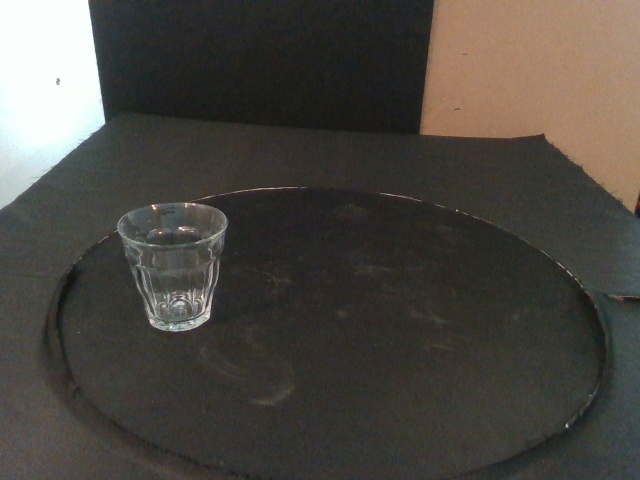glass: (117, 203, 228, 331)
